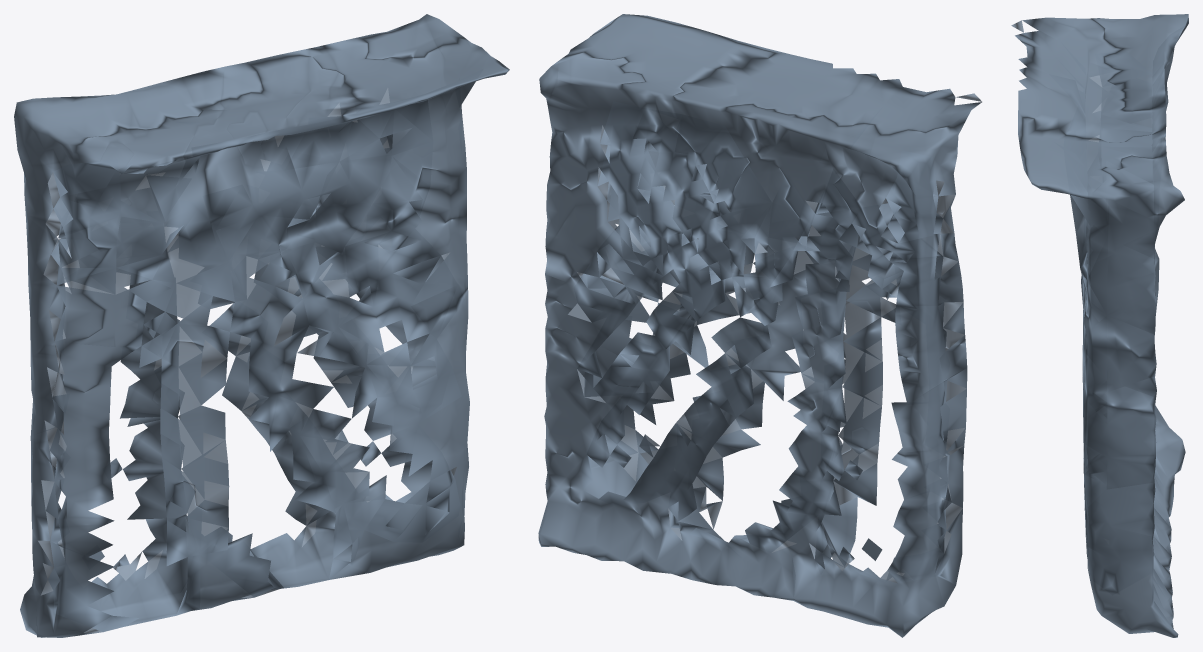
Rendered from sample_90_recon.obj.
3 renders of one model, left to right at view 1: azimuth 30°, elevation 25°; view 2: azimuth 150°, elevation 25°; view 3: azimuth 270°, elevation 25°, orthographic. The views are drawn at different scales.
Bounding box in the file's own units: 1.24 × 1.46 × 0.5152.
